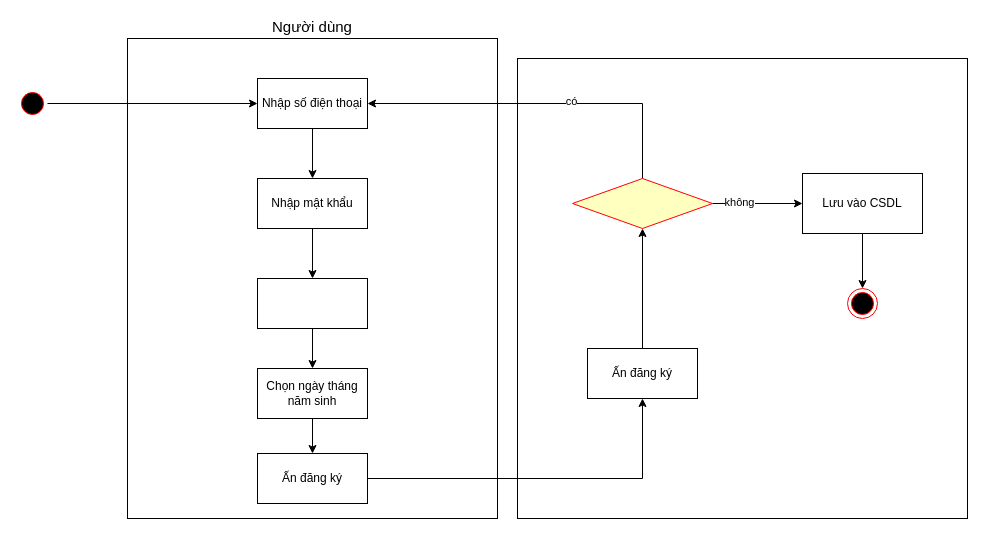
Some shapes in this 985 by 536 pixel diagram are drawn without their labels. Here are the shapes that lost their labels. From the top down, the box of each, then its label:
(572, 178, 712, 228): Số điện thoại tồn tại
(256, 278, 368, 328): Nhập họ và tên
(516, 58, 968, 518): Hệ thống
